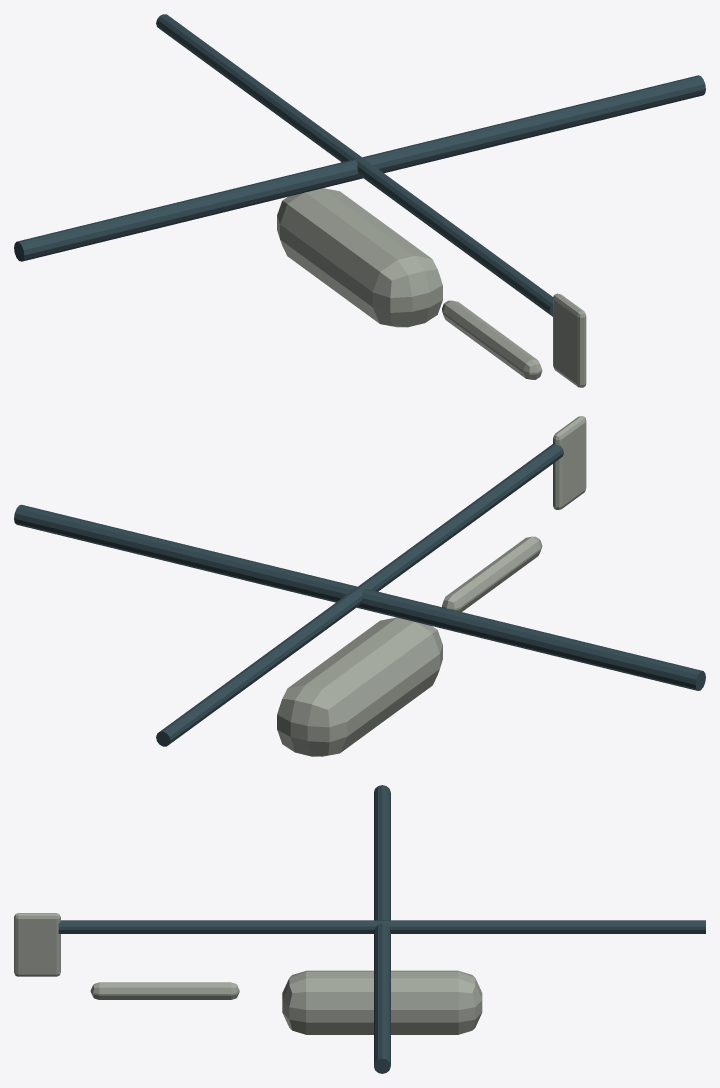
3 views of the same model, one above another, from view 1: azimuth 30°, elevation 25°; view 2: azimuth 150°, elevation 25°; view 3: azimuth 270°, elevation 25° (orthographic). The views are drawn at different scales.
Visible parts, largest first — view 1: main_rotor, fuselage, cross_rotor, tail_fin, tail_boom; view 2: main_rotor, fuselage, cross_rotor, tail_fin, tail_boom; view 3: fuselage, cross_rotor, main_rotor, tail_fin, tail_boom.
Boxes of the visible parts, box(x1,y1,x2,y2) form: main_rotor: box(14, 75, 705, 261); fuselage: box(277, 188, 442, 327); cross_rotor: box(156, 14, 553, 316); tail_fin: box(553, 293, 586, 387); tail_boom: box(442, 300, 542, 379); main_rotor: box(14, 504, 705, 690); fuselage: box(277, 617, 442, 756); cross_rotor: box(156, 444, 563, 746); tail_fin: box(553, 416, 586, 509); tail_boom: box(442, 536, 542, 611); fuselage: box(282, 970, 482, 1034); cross_rotor: box(58, 920, 705, 933); main_rotor: box(374, 785, 390, 1073); tail_fin: box(14, 913, 60, 976); tail_boom: box(90, 982, 239, 999).
Size of the model in its own units: 7.6 by 1.52 by 8.13.
